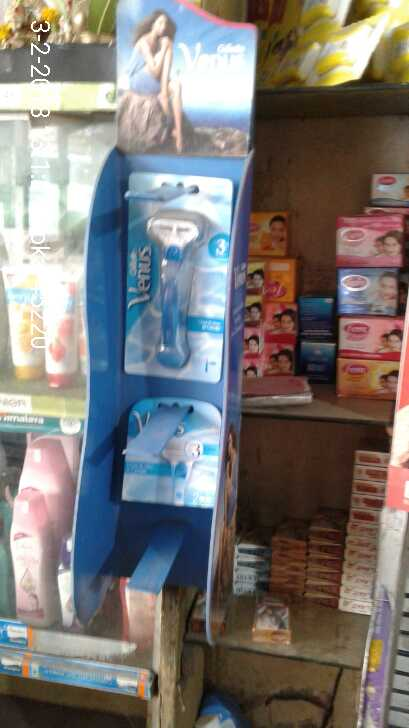venus: (119, 168, 227, 379), (121, 399, 224, 513)
